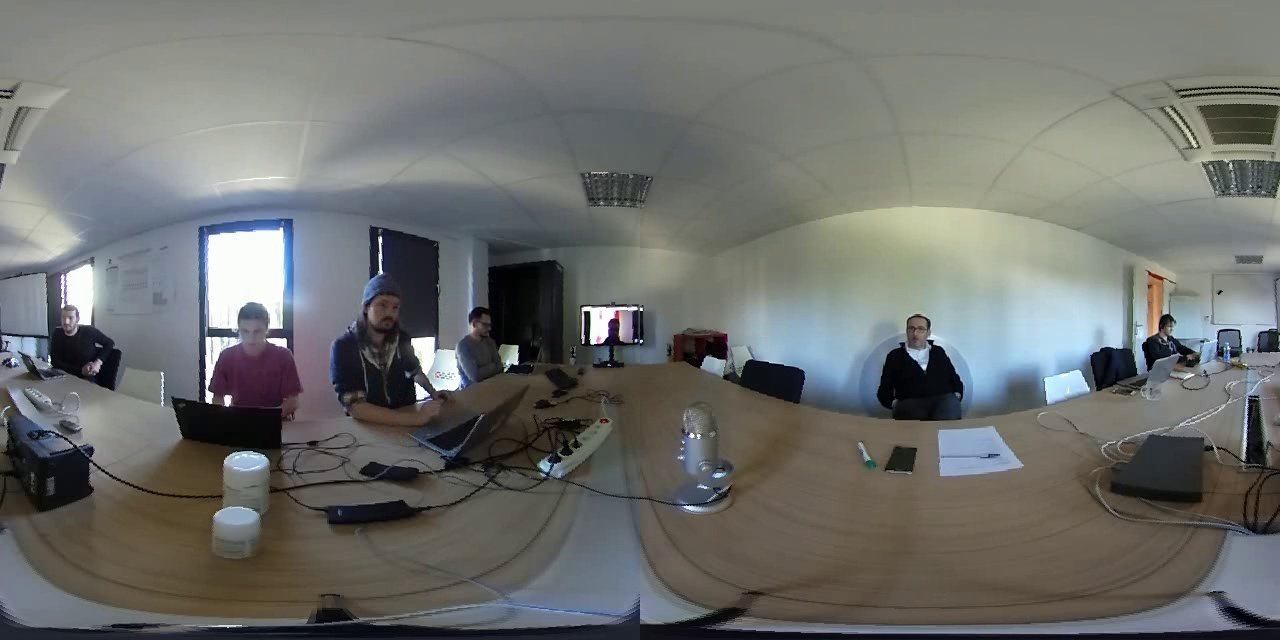person: (329, 270, 435, 421), (865, 300, 977, 431), (202, 292, 311, 425), (446, 288, 531, 385), (40, 292, 120, 392), (1129, 307, 1201, 361), (586, 307, 643, 344)
